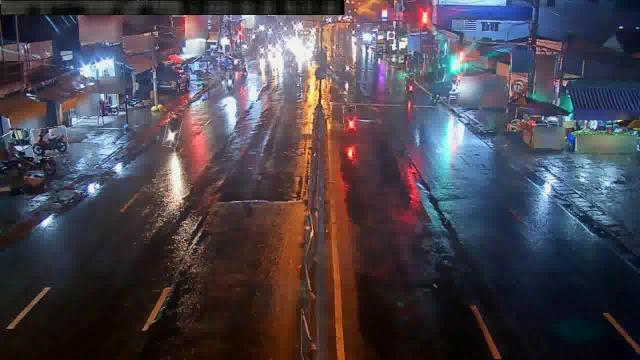Bike: (32, 126, 68, 158), (164, 112, 182, 148), (344, 106, 356, 130), (405, 74, 415, 94), (226, 72, 234, 92)
